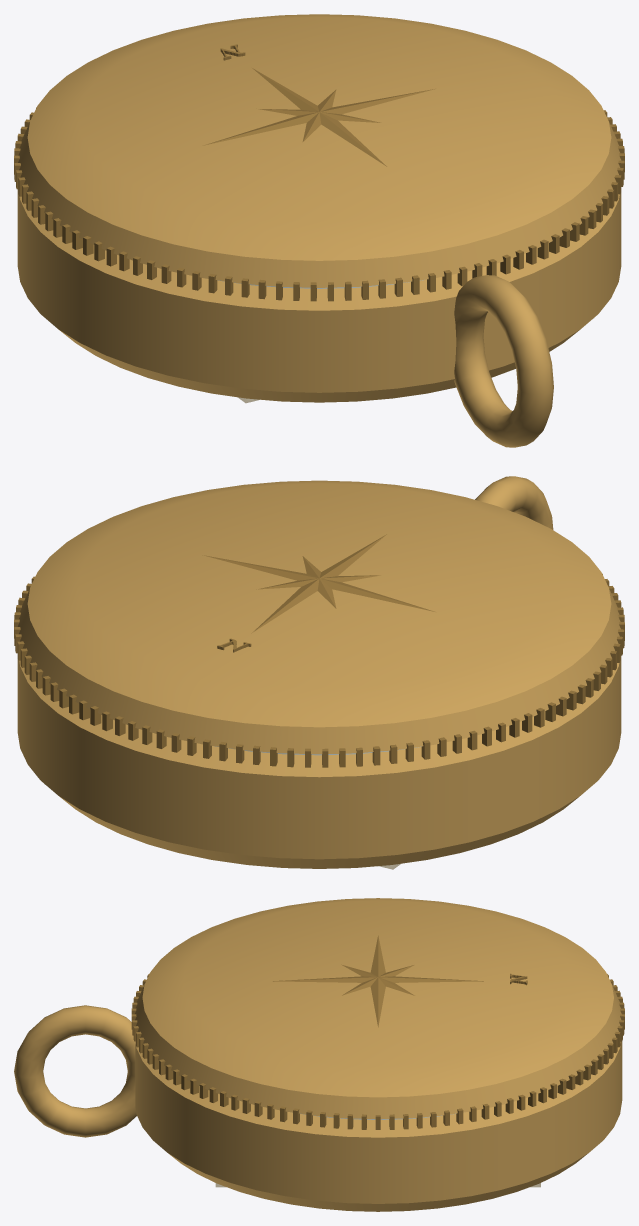
Rendered from compass.fbx.
The picture shows the model from 3 angles, top to bottom: view 1: azimuth 30°, elevation 25°; view 2: azimuth 150°, elevation 25°; view 3: azimuth 270°, elevation 25°; orthographic projection. The views are drawn at different scales.
Visible parts, largest first — view 1: Lid, compass; view 2: Lid, compass; view 3: Lid, compass.
Part boxes in pixels (bbox=[...]): Lid: bbox=[14, 14, 624, 301]; compass: bbox=[17, 189, 621, 447]; Lid: bbox=[14, 480, 624, 767]; compass: bbox=[17, 476, 621, 869]; Lid: bbox=[131, 898, 624, 1129]; compass: bbox=[14, 1005, 622, 1211].
Size of the model in its own units: 0.0607 by 0.0216 by 0.0751.
